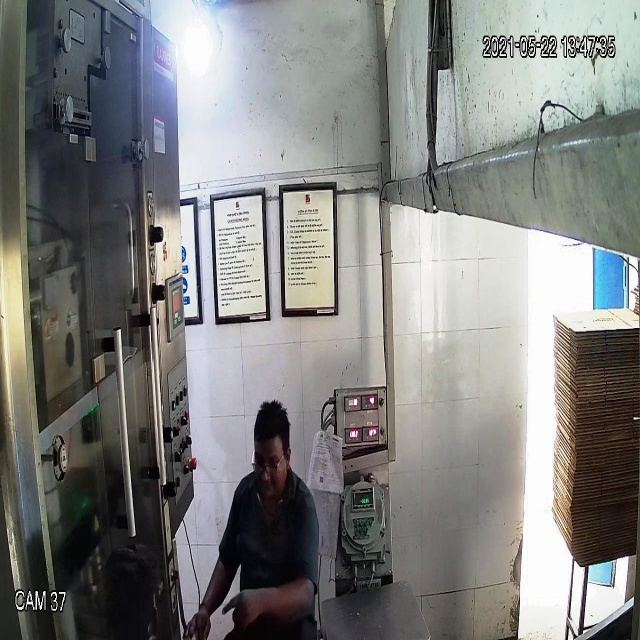Gafas: (247, 450, 290, 482)
